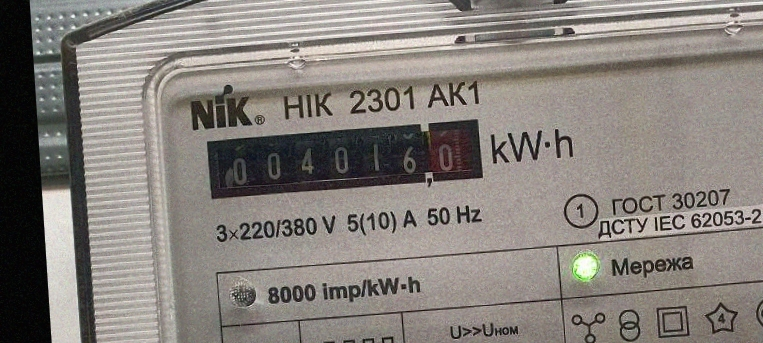0: (330, 141, 353, 178), (228, 153, 251, 187), (263, 148, 284, 183), (434, 140, 456, 173)
1: (367, 138, 385, 173)
4: (297, 143, 317, 178)
6: (398, 141, 419, 174)
screen: (199, 111, 492, 207)
